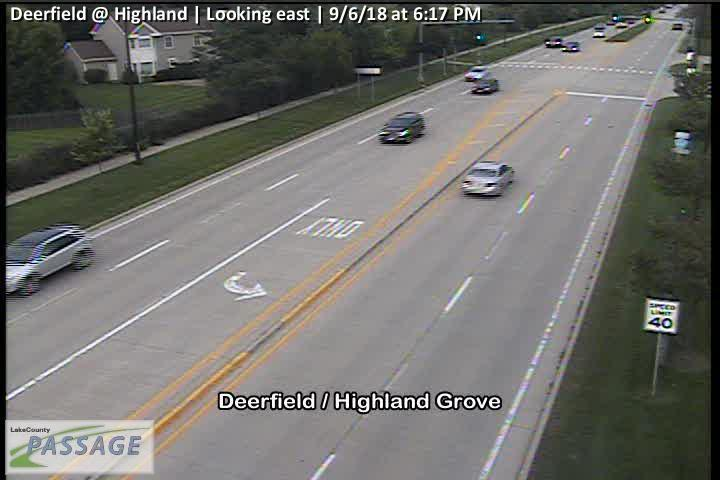Sedan: (2, 225, 95, 296), (461, 160, 515, 195), (379, 111, 425, 143), (463, 64, 488, 81), (471, 77, 497, 93), (561, 41, 580, 52), (543, 36, 561, 47), (592, 25, 606, 37), (671, 22, 682, 29)
